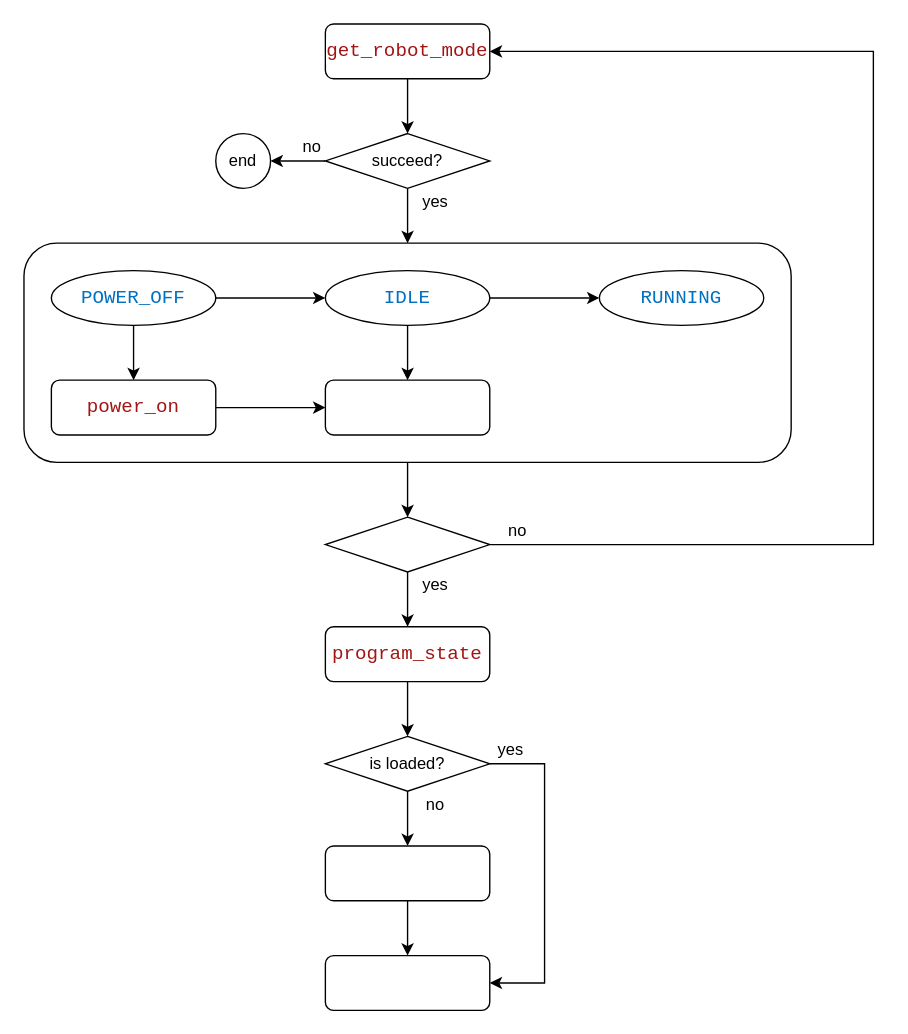
Image size: 908x1034. Some labels were removed from this diagram. Here are the shapes that lost their labels. From the top down, the centre of each, then its label:
the point at 407,407: brake_release
the point at 407,544: is RUNNING?
the point at 407,873: load_program
the point at 407,982: play
